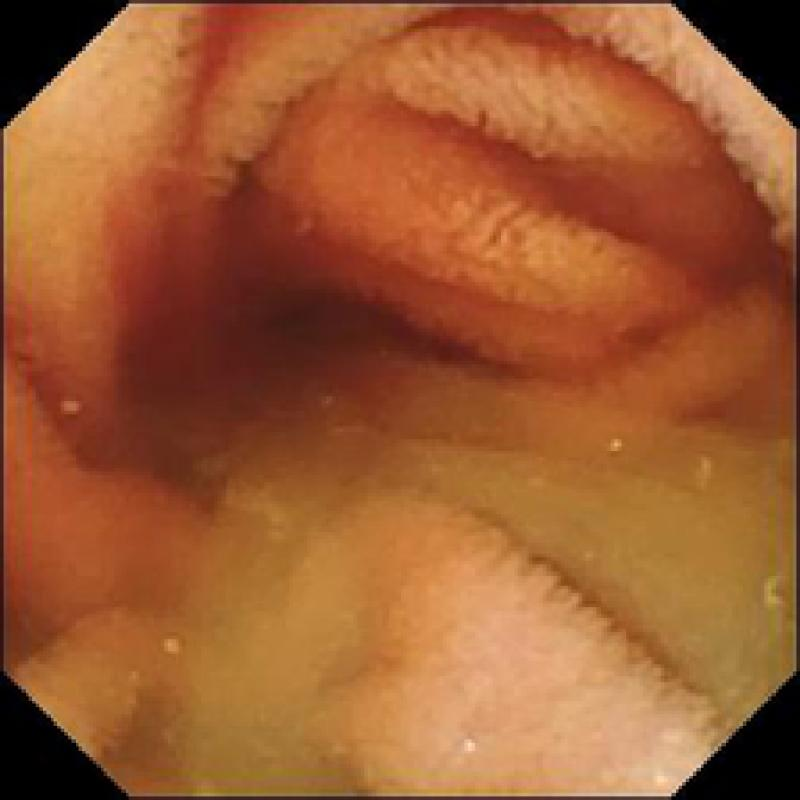bleeding: (107, 0, 797, 493)
